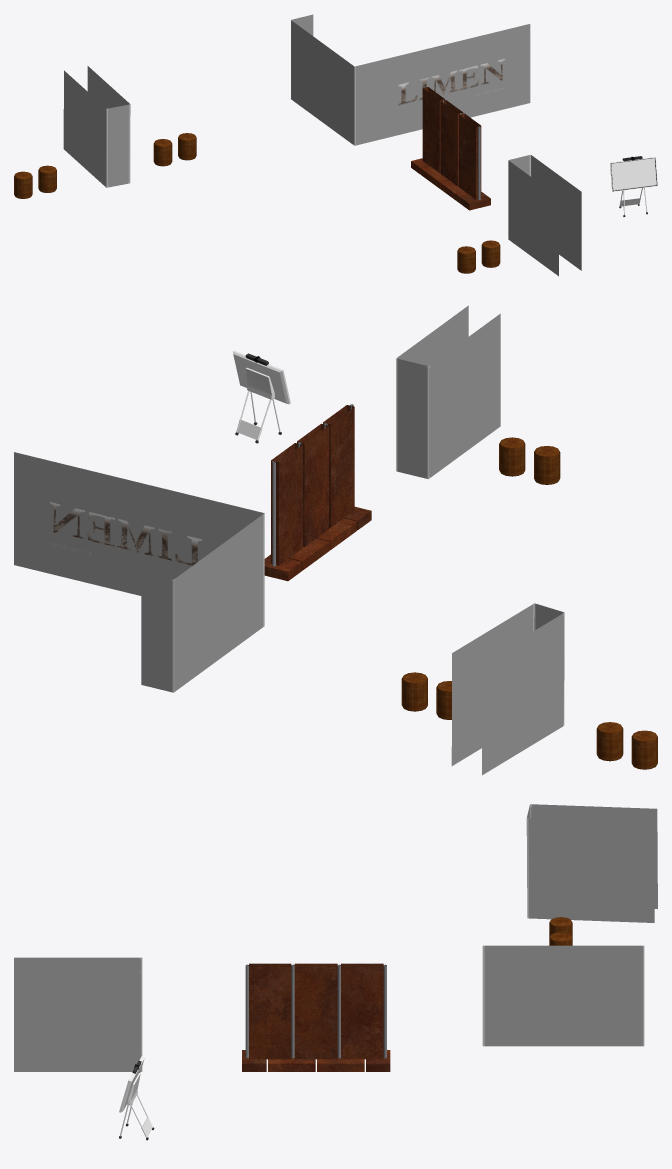
Rendered from props.glb.
3 views of the same model, one above another, from view 1: azimuth 30°, elevation 25°; view 2: azimuth 150°, elevation 25°; view 3: azimuth 270°, elevation 25° (orthographic). The views are drawn at different scales.
Visible parts, largest first — view 1: pCylinder5; view 2: pCylinder5; view 3: pCylinder5.
Boxes of the visible parts, x1,y1,x2,y2 form: pCylinder5: (14,14,657,276); pCylinder5: (14,305,657,775); pCylinder5: (14,804,657,1140).
Size of the model in its own units: 14.81 by 2.33 by 13.52.
Materials: 1 (1 with a texture image).
